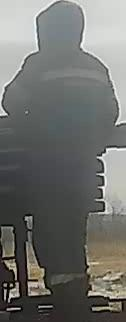vest: (16, 48, 108, 214)
